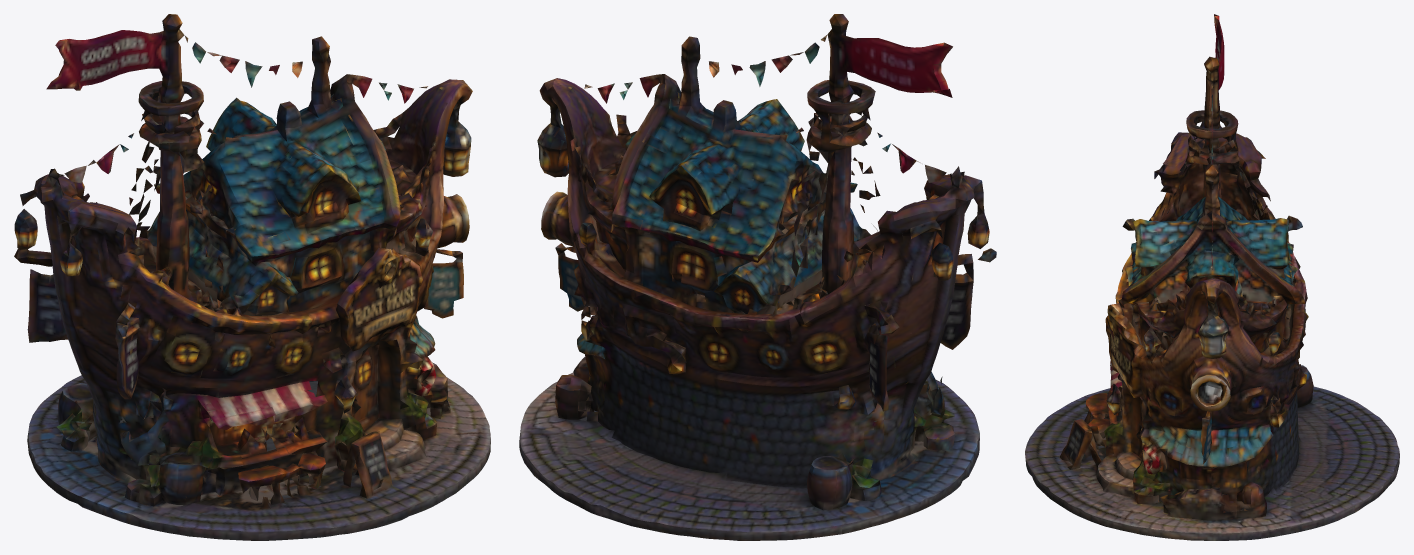
The model's file is boat_house.glb.
The picture shows the model from 3 angles, left to right: view 1: azimuth 30°, elevation 25°; view 2: azimuth 150°, elevation 25°; view 3: azimuth 270°, elevation 25°; orthographic projection. The views are drawn at different scales.
Visible parts, largest first — view 1: output; view 2: output; view 3: output.
Boxes of the visible parts, <box> form: output: <box>14,14,490,540</box>; output: <box>519,14,996,540</box>; output: <box>1025,14,1399,540</box>.
Size of the model in its own units: 2 by 2 by 1.84.
Materials: 1 (1 with a texture image).
